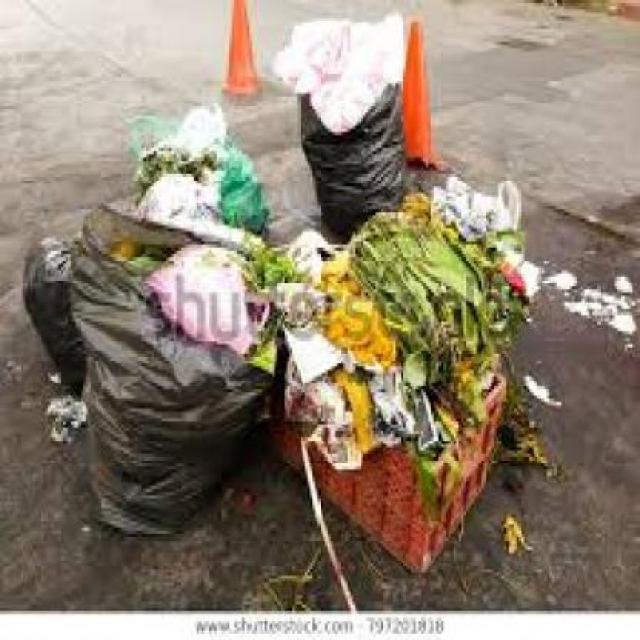garbage: (60, 135, 451, 562), (265, 20, 406, 129), (459, 360, 560, 472), (454, 186, 515, 363), (554, 265, 632, 336), (502, 518, 530, 550)
